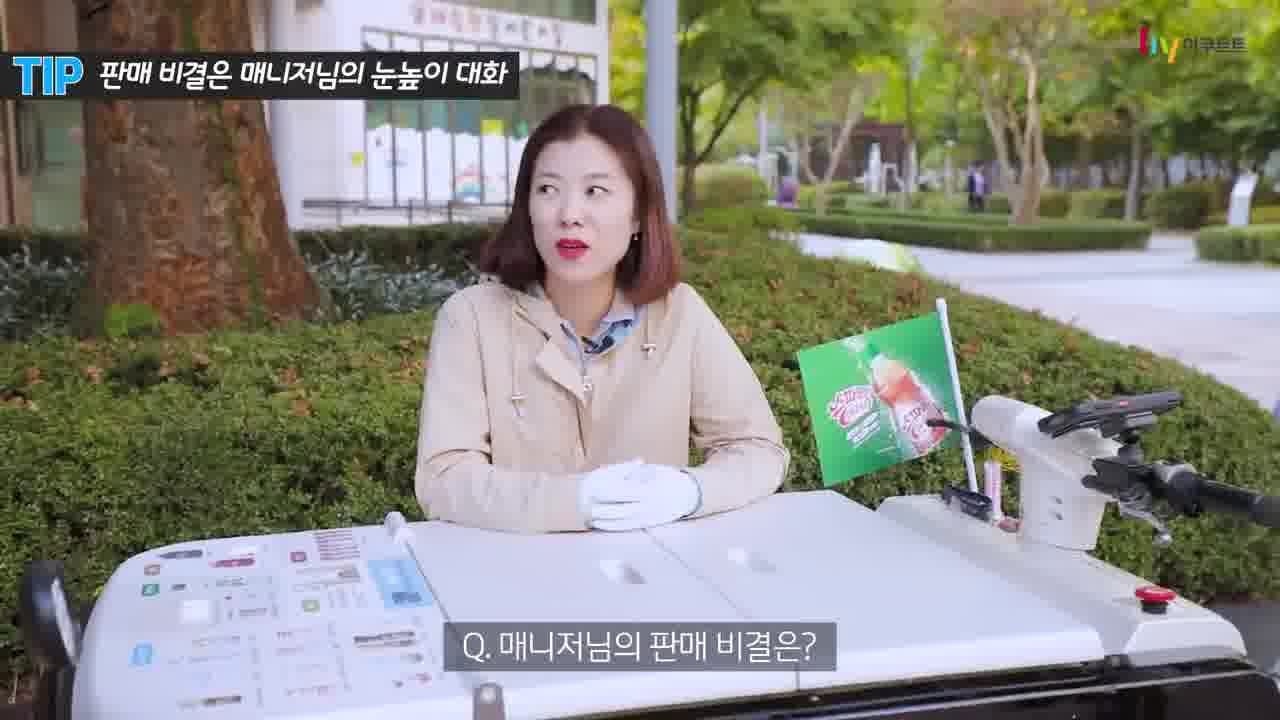Yakurut: (396, 102, 806, 545)
